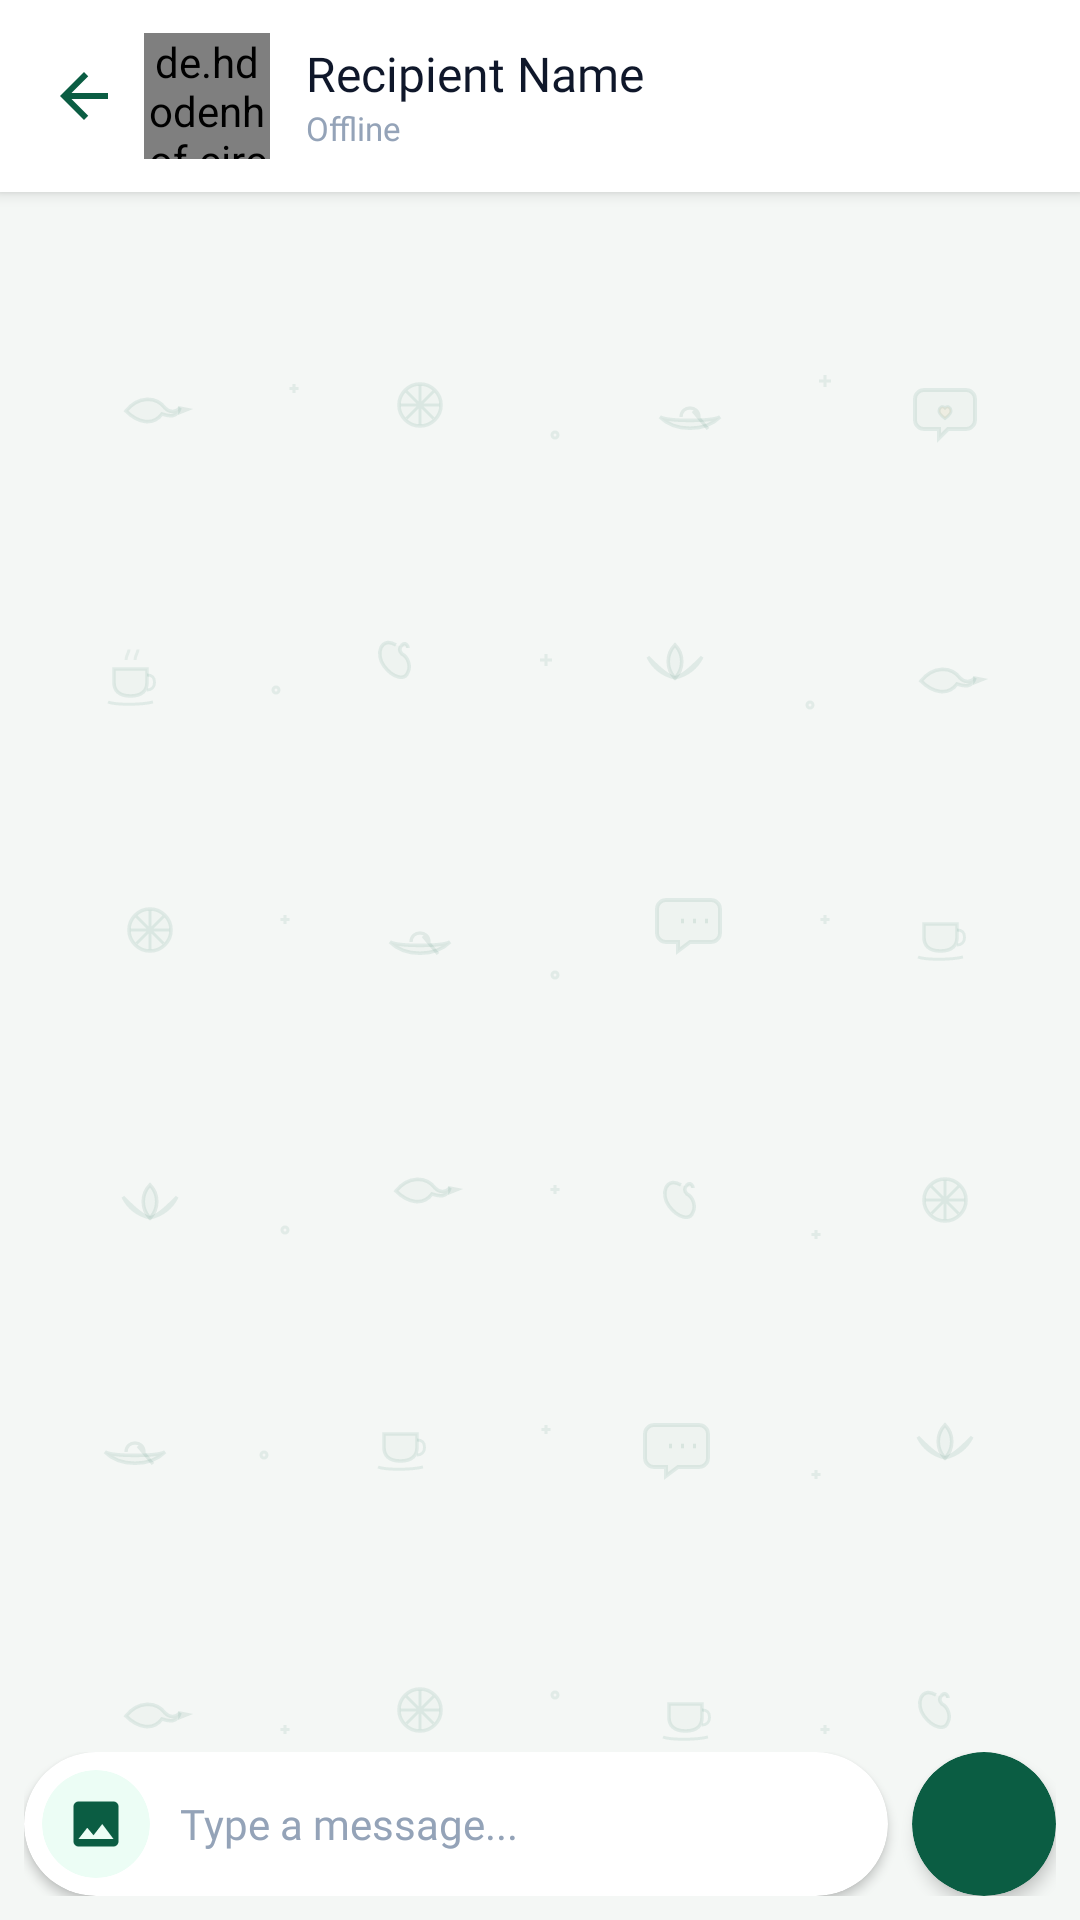

Named icons in this screenshot (1080 x 1920) and their centers, [x,y]:
attach: [96,1824]
back arrow: [84,96]
